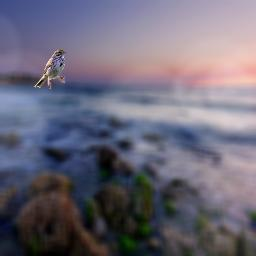Sparrow: (34, 49, 67, 89)
